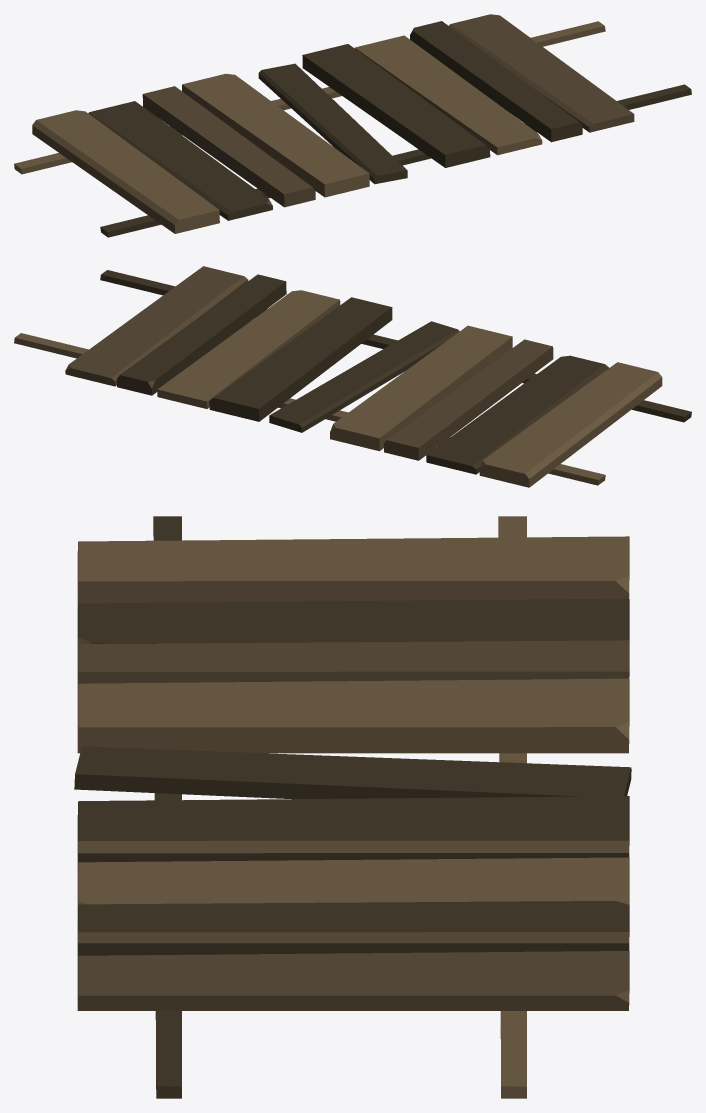
File: EA03_Env_Road_Wooden_01d.glb
The picture shows the model from 3 angles, top to bottom: view 1: azimuth 30°, elevation 25°; view 2: azimuth 150°, elevation 25°; view 3: azimuth 270°, elevation 25°; orthographic projection. The views are drawn at different scales.
Parts seen in each view (by area): view 1: EA03_Env_Road_Wooden_01d; view 2: EA03_Env_Road_Wooden_01d; view 3: EA03_Env_Road_Wooden_01d.
Part boxes in pixels (x1,y1,x2,y2): EA03_Env_Road_Wooden_01d: (14, 14, 691, 237); EA03_Env_Road_Wooden_01d: (14, 266, 691, 487); EA03_Env_Road_Wooden_01d: (74, 516, 631, 1098).
Size of the model in its own units: 3.15 by 0.0981 by 1.3.
1 material, 1 textured.
